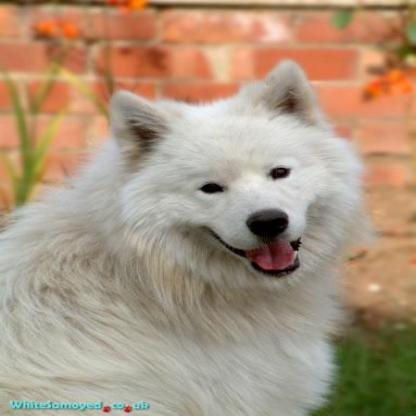Samoyed: (0, 54, 382, 413)
